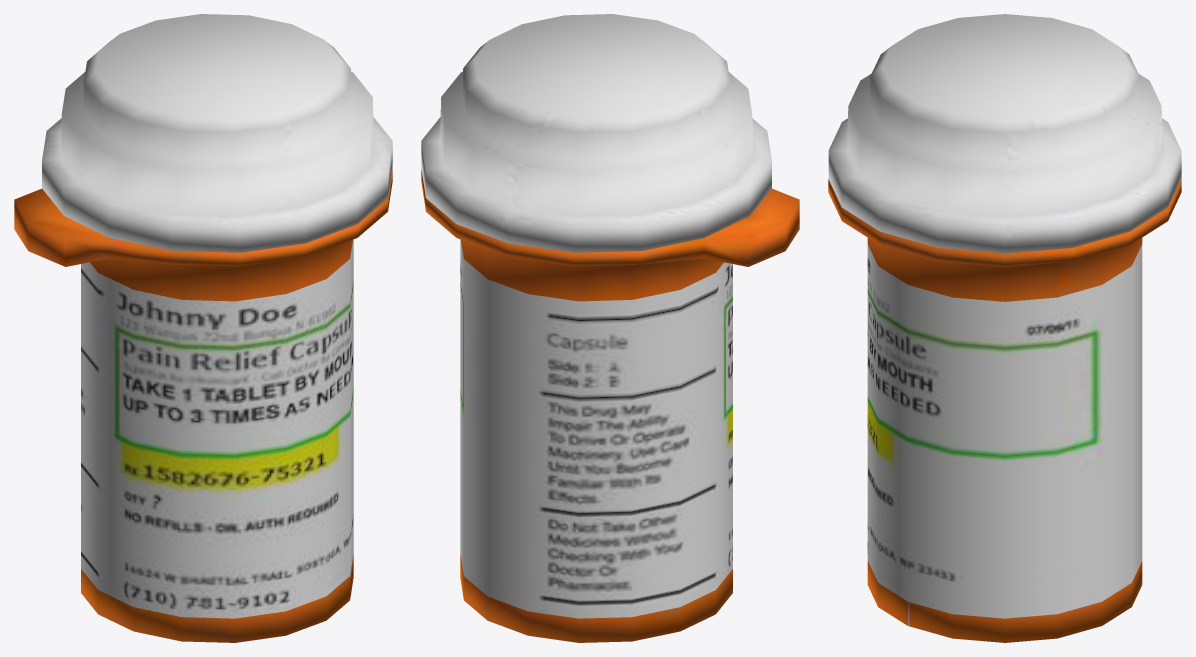
The model's file is pill-bottle.glb.
3 renders of one model, left to right at view 1: azimuth 30°, elevation 25°; view 2: azimuth 150°, elevation 25°; view 3: azimuth 270°, elevation 25°, orthographic.
Visible parts, largest first — view 1: PillBottle_2, PillBottle_1; view 2: PillBottle_2, PillBottle_1; view 3: PillBottle_2, PillBottle_1.
Part boxes in pixels (x1,y1,x2,y2): PillBottle_2: [14, 169, 392, 642]; PillBottle_1: [42, 14, 392, 252]; PillBottle_2: [421, 169, 799, 642]; PillBottle_1: [421, 14, 771, 252]; PillBottle_2: [828, 179, 1181, 642]; PillBottle_1: [828, 14, 1181, 253].
Size of the model in its own units: 1.11 by 1.61 by 0.9896.
1 material, 1 textured.
